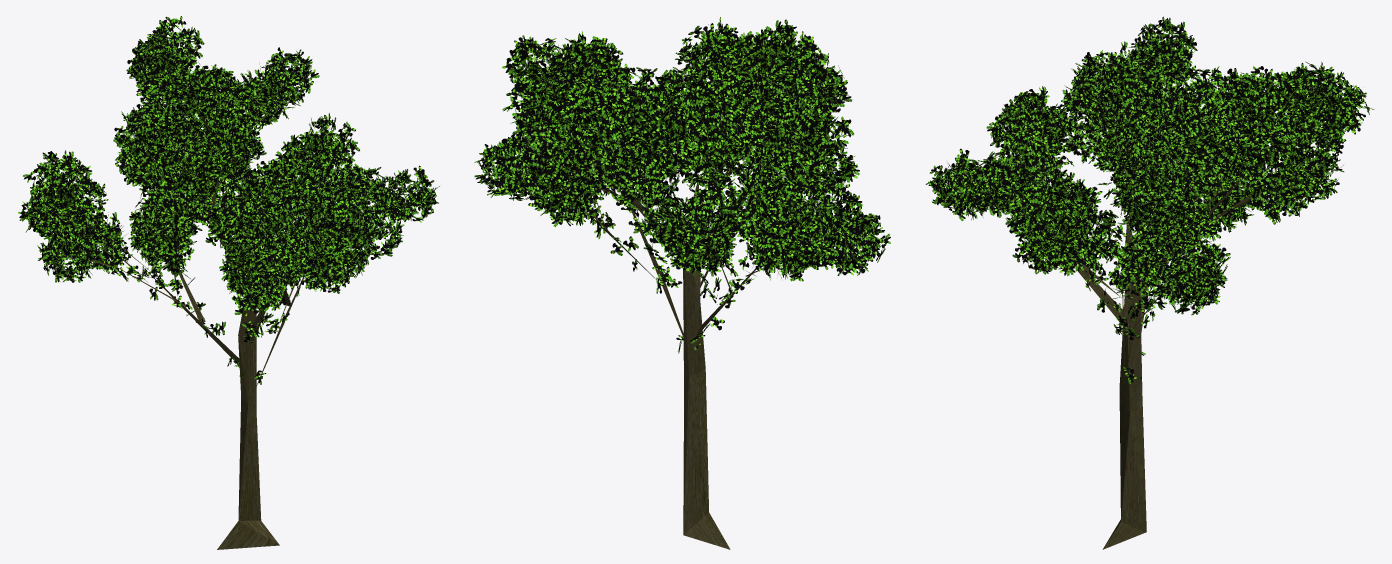
File: emergent_fig_v02_LOD1.fbx
3 views of the same model, side by side, from view 1: azimuth 30°, elevation 25°; view 2: azimuth 150°, elevation 25°; view 3: azimuth 270°, elevation 25° (orthographic). The views are drawn at different scales.
Parts seen in each view (by area): view 1: emergent_fig_v02_LOD1; view 2: emergent_fig_v02_LOD1; view 3: emergent_fig_v02_LOD1.
Boxes of the visible parts, x1=… form: emergent_fig_v02_LOD1: x1=18, y1=16, x2=439, y2=549; emergent_fig_v02_LOD1: x1=474, y1=17, x2=890, y2=549; emergent_fig_v02_LOD1: x1=925, y1=16, x2=1374, y2=549.
Size of the model in its own units: 3539 by 3794 by 4422.
2 materials, 2 textured.
